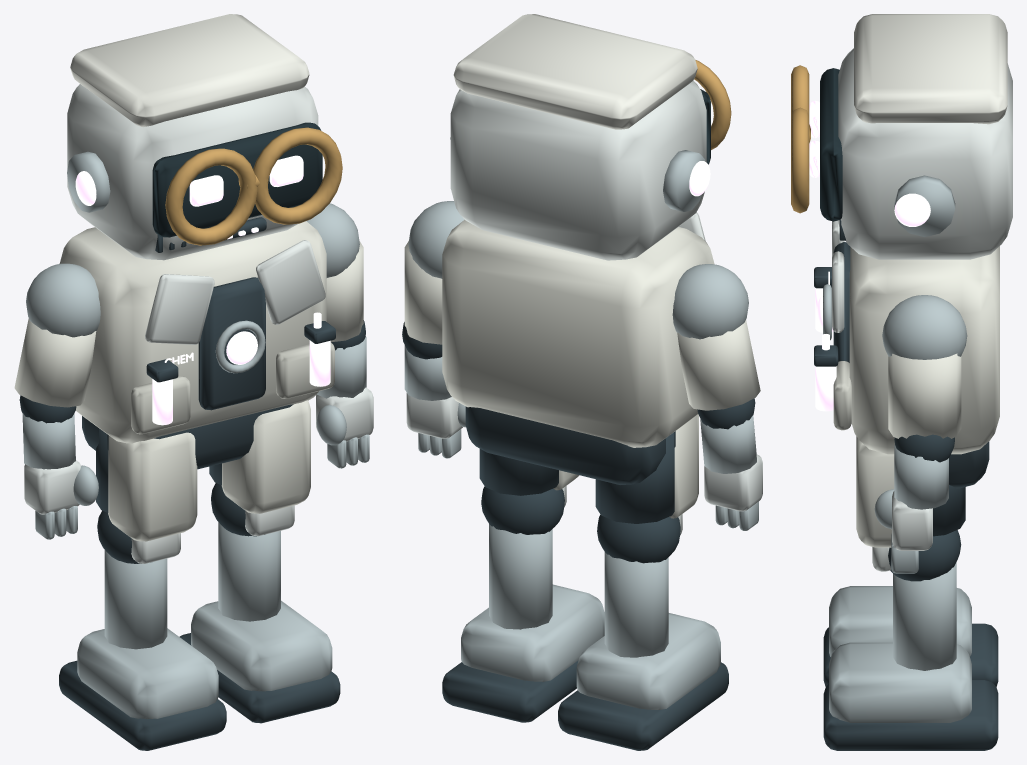
File: chemistry-robot.glb
The picture shows the model from 3 angles, left to right: view 1: azimuth 30°, elevation 25°; view 2: azimuth 150°, elevation 25°; view 3: azimuth 270°, elevation 25°; orthographic projection.
Visible parts, largest first — view 1: Body Discipline garment, Body Brushed titanium, Body Graphite joints, attention_head Ivory fibre, attention_head Ceramic face shell, Body Ceramic face shell, attention_head Warm instrument metal, attention_head Dark optical glass, gesture_arm Brushed titanium, Body Stitched trim, Body AI luminous elements, gesture_arm Discipline garment (+5 smaller); view 2: Body Discipline garment, Body Brushed titanium, Body Graphite joints, attention_head Ceramic face shell, attention_head Ivory fibre, gesture_arm Brushed titanium, gesture_arm Discipline garment, Body Ceramic face shell, gesture_arm Ceramic face shell, attention_head Brushed titanium, attention_head Warm instrument metal, gesture_arm Graphite joints (+1 smaller); view 3: attention_head Ceramic face shell, Body Discipline garment, Body Brushed titanium, attention_head Ivory fibre, Body Graphite joints, gesture_arm Brushed titanium, gesture_arm Discipline garment, attention_head Dark optical glass, attention_head Warm instrument metal, attention_head Brushed titanium, gesture_arm Ceramic face shell, Body Ceramic face shell (+5 smaller).
Boxes of the visible parts, x1,y1,x2,y2 form: Body Discipline garment: [14, 221, 326, 541]; Body Brushed titanium: [22, 263, 332, 719]; Body Graphite joints: [19, 277, 340, 750]; attention_head Ivory fibre: [70, 14, 309, 127]; attention_head Ceramic face shell: [67, 84, 318, 260]; Body Ceramic face shell: [24, 240, 325, 563]; attention_head Warm instrument metal: [165, 127, 342, 245]; attention_head Dark optical glass: [152, 122, 322, 237]; gesture_arm Brushed titanium: [306, 203, 369, 468]; Body Stitched trim: [131, 342, 334, 434]; Body AI luminous elements: [152, 312, 330, 425]; gesture_arm Discipline garment: [326, 241, 363, 342]; Body Discipline garment: [442, 219, 760, 518]; Body Brushed titanium: [461, 264, 758, 709]; Body Graphite joints: [442, 398, 755, 750]; attention_head Ceramic face shell: [450, 80, 706, 260]; attention_head Ivory fibre: [453, 14, 697, 129]; gesture_arm Brushed titanium: [404, 201, 465, 458]; gesture_arm Discipline garment: [404, 241, 442, 344]; Body Ceramic face shell: [562, 212, 762, 535]; gesture_arm Ceramic face shell: [406, 393, 462, 438]; attention_head Brushed titanium: [450, 137, 705, 211]; attention_head Warm instrument metal: [694, 60, 731, 149]; gesture_arm Graphite joints: [402, 322, 442, 359]; attention_head Ceramic face shell: [838, 48, 1012, 259]; Body Discipline garment: [849, 246, 999, 547]; Body Brushed titanium: [823, 284, 971, 722]; attention_head Ivory fibre: [854, 14, 1007, 124]; Body Graphite joints: [814, 242, 998, 750]; gesture_arm Brushed titanium: [874, 295, 967, 573]; gesture_arm Discipline garment: [888, 353, 961, 438]; attention_head Dark optical glass: [820, 68, 842, 221]; attention_head Warm instrument metal: [791, 65, 810, 213]; attention_head Brushed titanium: [894, 175, 955, 236]; gesture_arm Ceramic face shell: [892, 491, 932, 550]; Body Ceramic face shell: [832, 220, 890, 571].
Size of the model in its own units: 0.2654 by 0.474 by 0.146.
